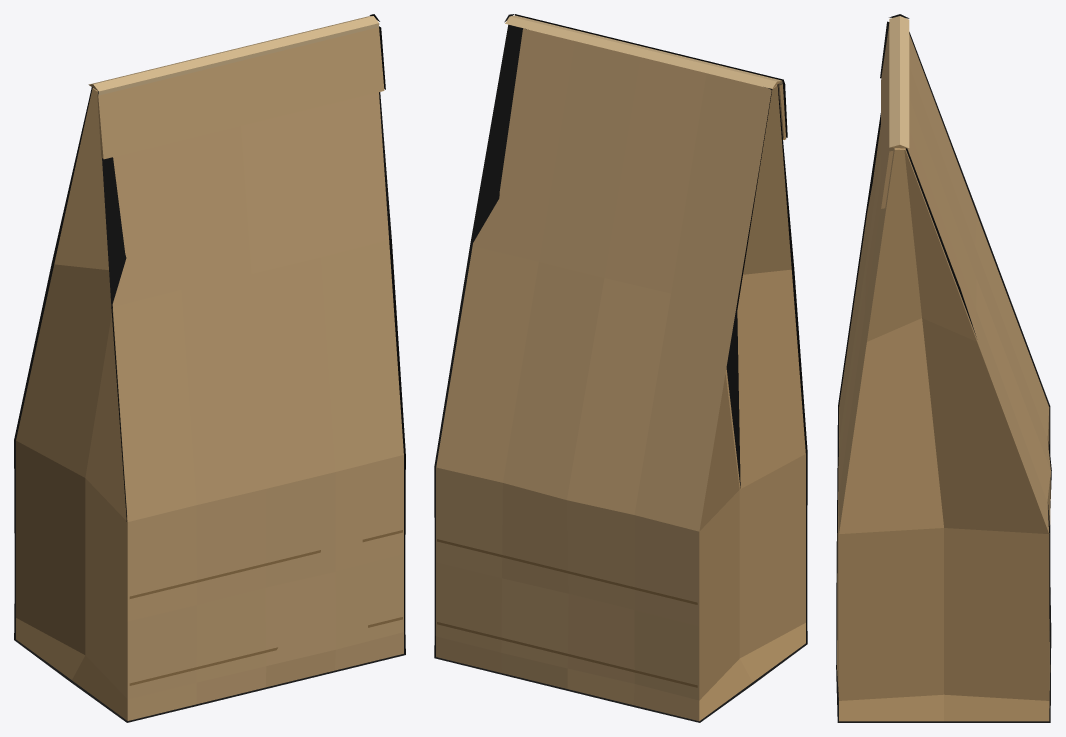
Rendered from Kese_uzun.fbx.
The picture shows the model from 3 angles, left to right: view 1: azimuth 30°, elevation 25°; view 2: azimuth 150°, elevation 25°; view 3: azimuth 270°, elevation 25°; orthographic projection. The views are drawn at different scales.
Parts seen in each view (by area): view 1: Kese_uzun; view 2: Kese_uzun; view 3: Kese_uzun.
Boxes of the visible parts, x1,y1,x2,y2 form: Kese_uzun: (14, 14, 405, 722); Kese_uzun: (434, 14, 807, 722); Kese_uzun: (836, 14, 1051, 722).
Size of the model in its own units: 0.2055 by 0.4263 by 0.1437.
